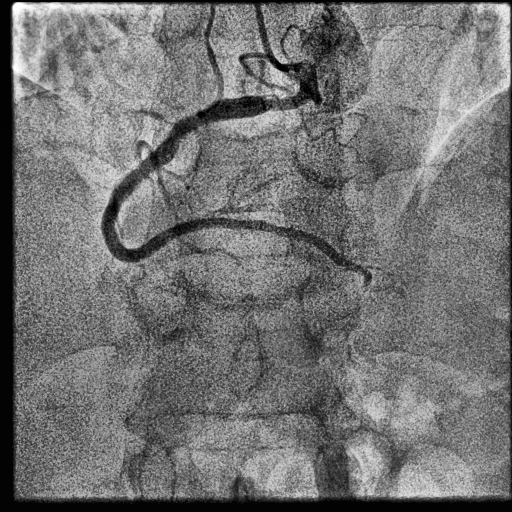pda: (213, 218, 372, 289)
rca: (101, 63, 316, 262)
